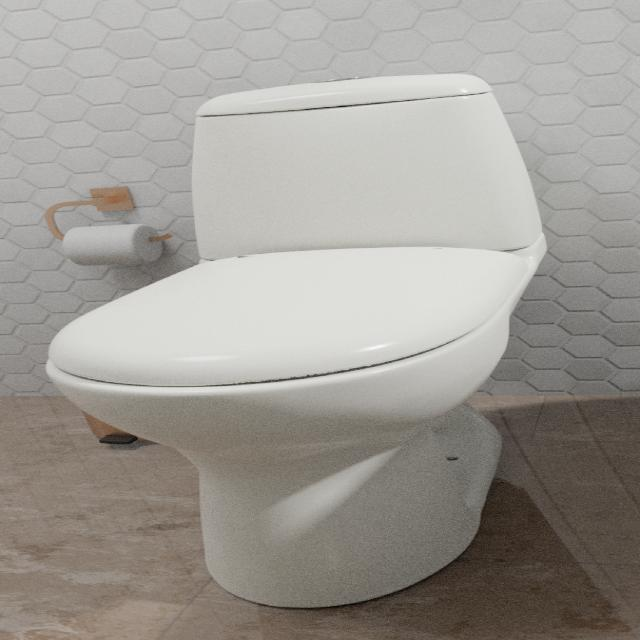toilet: (44, 71, 547, 608)
